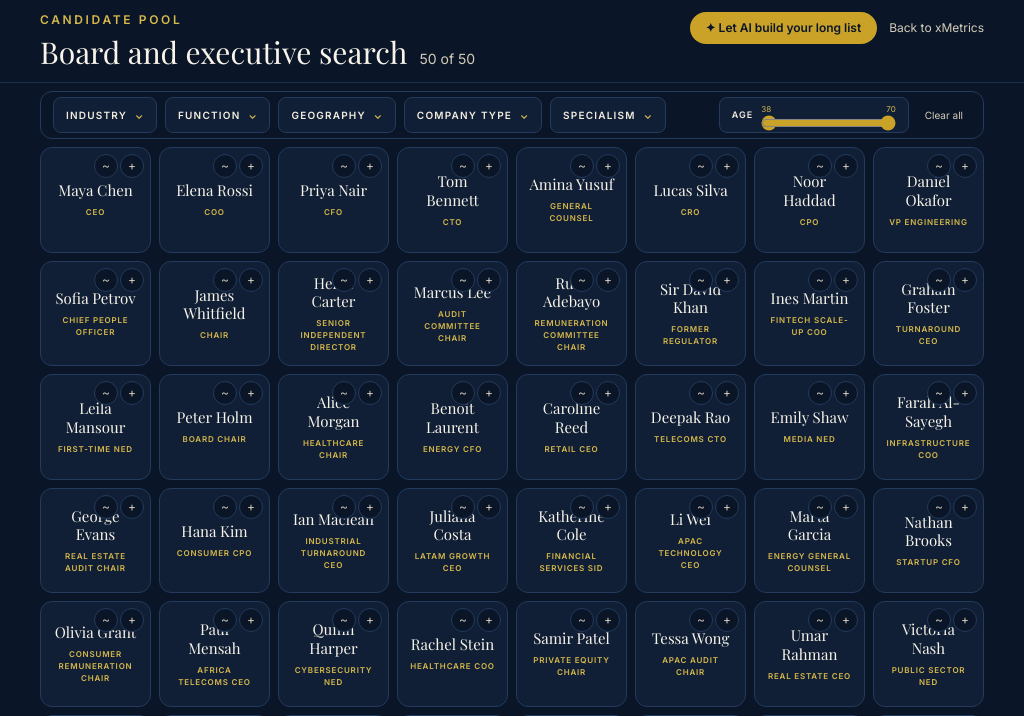
Test: CandidatePoolPage › updates the cards and live count when a facet is selected
Click the heading "Industry ⌄". click: (105, 115)
box: [53,97,157,133]
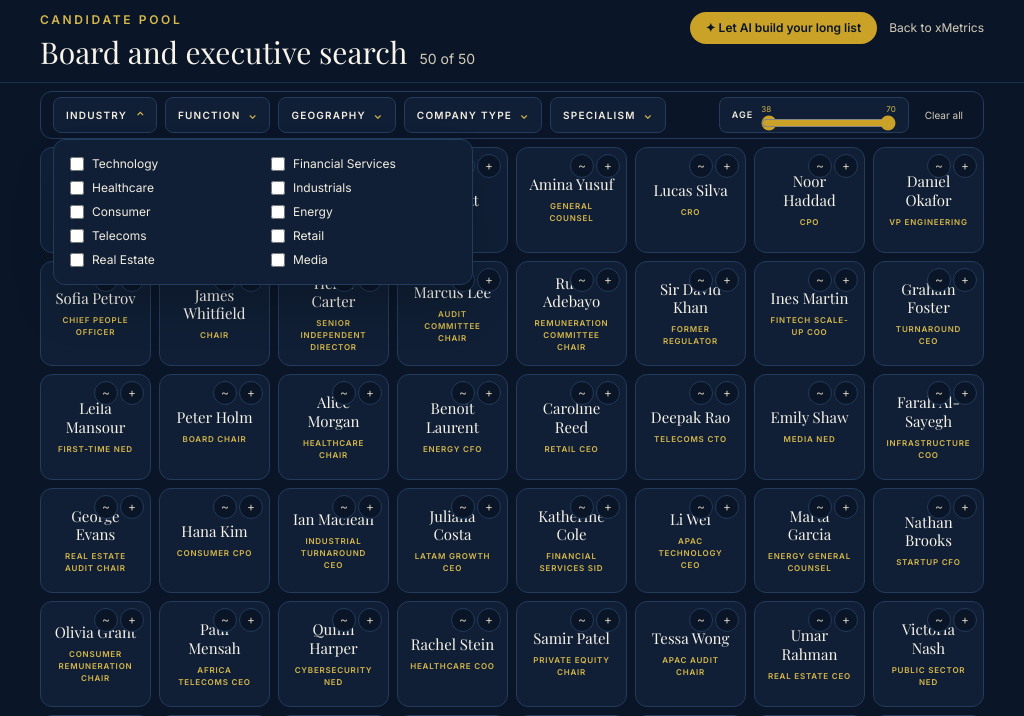
Click the checkbox labelled "Healthcare". click: (77, 188)
box: [70,181,84,195]
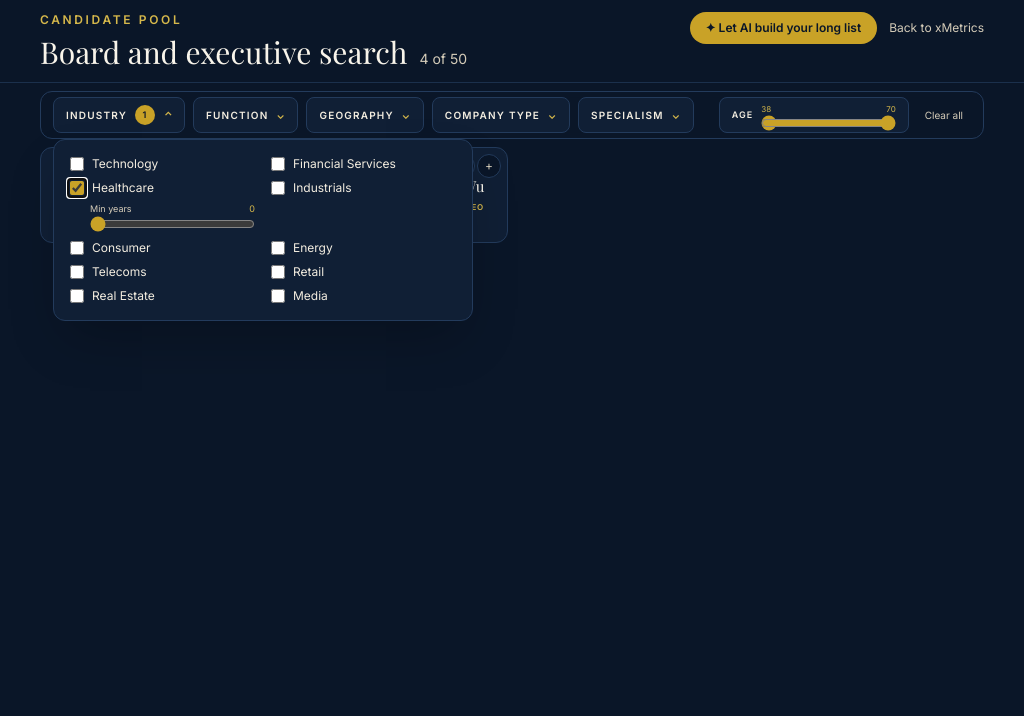
Expected: the text with test id "pool-count" no longer shows "50 of 50", [420,49,467,69]
